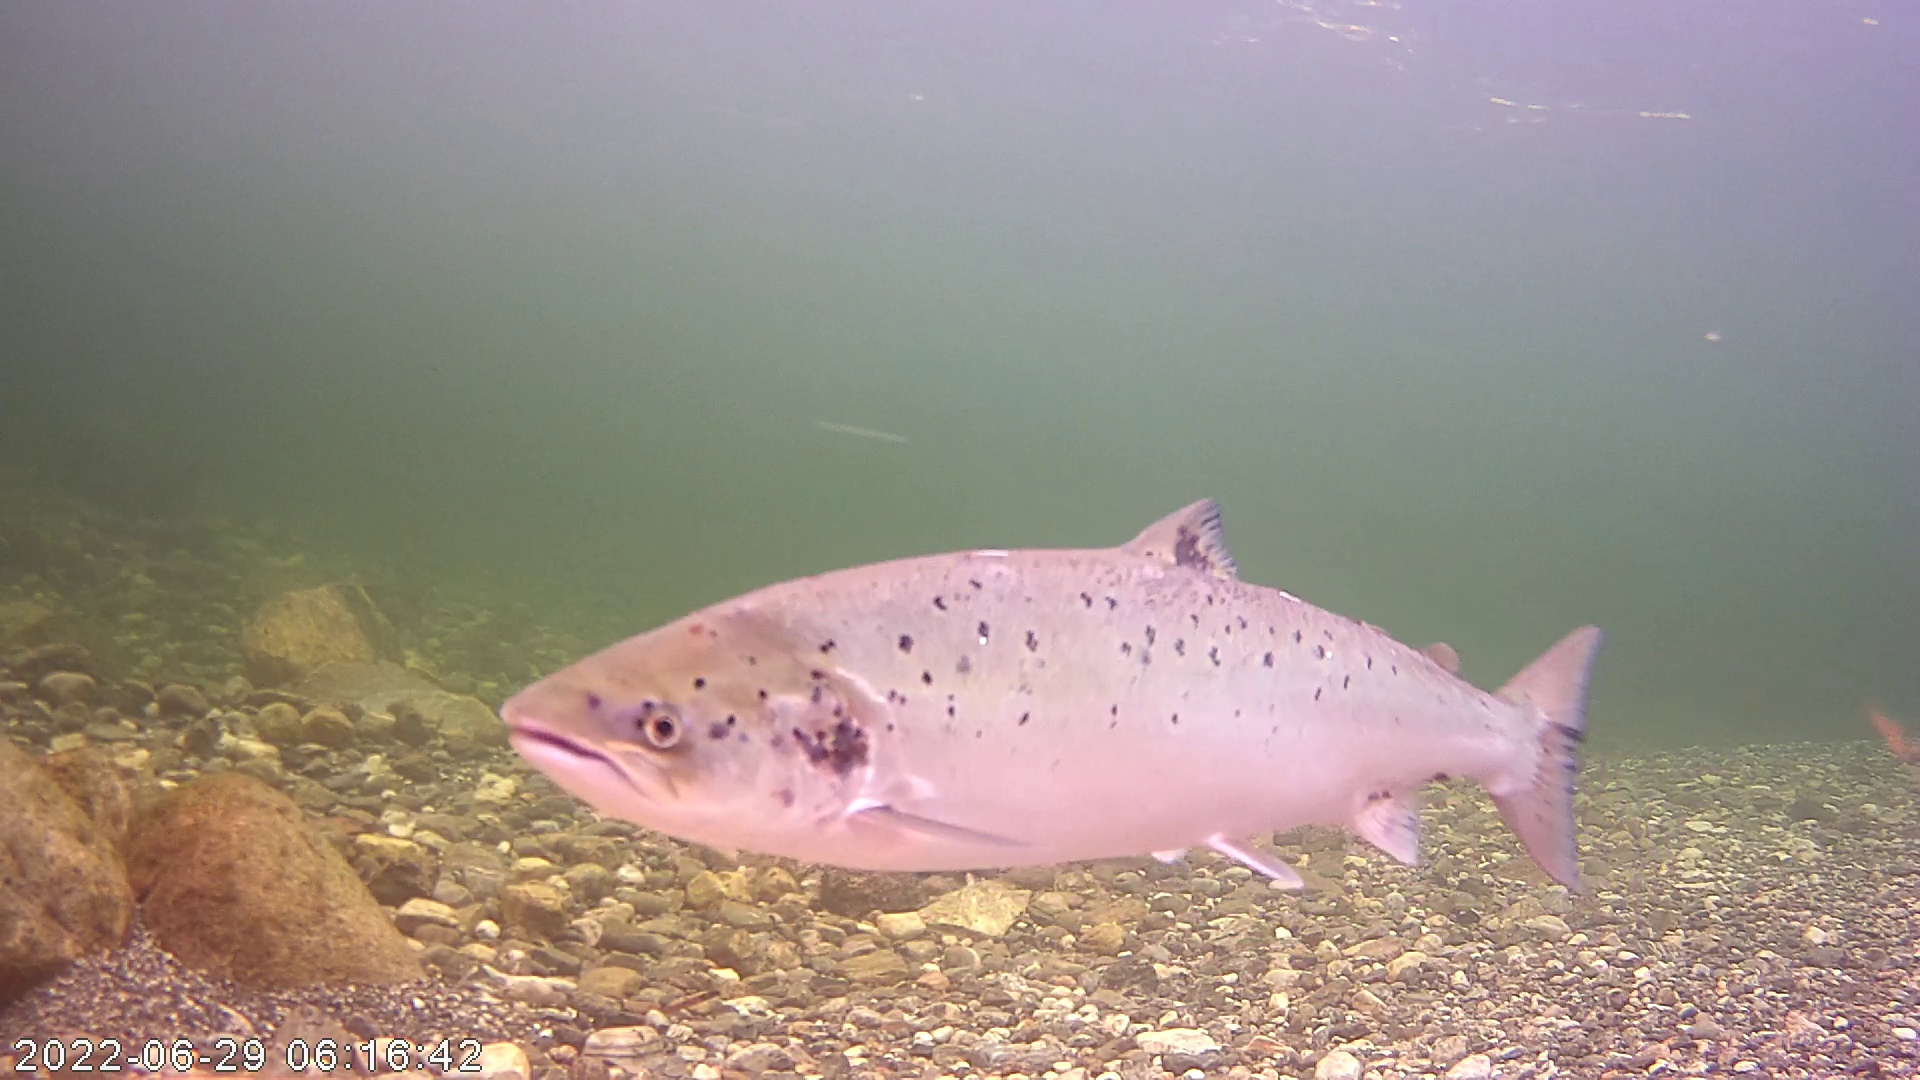salmon: (527, 382, 1619, 884)
